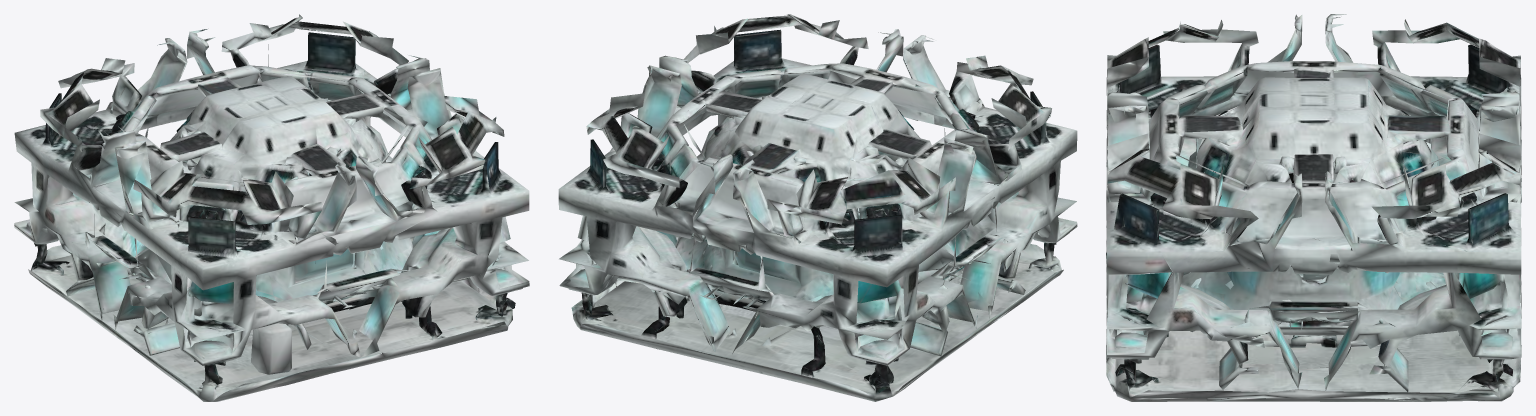
Rendered from frigate_bridge.repacked.glb.
3 renders of one model, left to right at view 1: azimuth 30°, elevation 25°; view 2: azimuth 150°, elevation 25°; view 3: azimuth 270°, elevation 25°, orthographic. The views are drawn at different scales.
Parts seen in each view (by area): view 1: Mesh1.0; view 2: Mesh1.0; view 3: Mesh1.0.
Part boxes in pixels (x1,y1,x2,y2): Mesh1.0: (14, 14, 529, 401); Mesh1.0: (558, 14, 1077, 401); Mesh1.0: (1106, 14, 1521, 401).
Bounding box in the file's own units: 1.91 × 1.15 × 1.91.
1 material, 1 textured.
